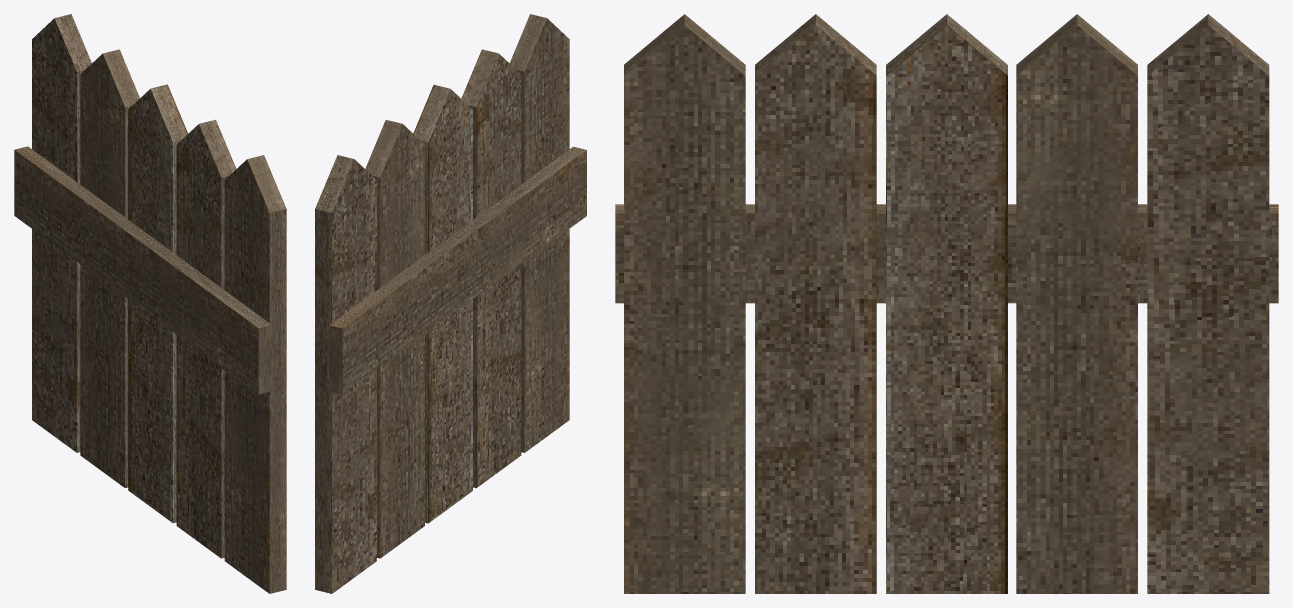
The model's file is picket_fence_short.gltf.
3 views of the same model, side by side, from view 1: azimuth 30°, elevation 25°; view 2: azimuth 150°, elevation 25°; view 3: azimuth 270°, elevation 25° (orthographic). The views are drawn at different scales.
Parts seen in each view (by area): view 1: Plank4, CrossBoard-col, Plank1, Plank5, Plank2, Plank3; view 2: Plank5, CrossBoard-col, Plank3, Plank4, Plank2, Plank1; view 3: Plank5, Plank1, Plank2, Plank3, Plank4, CrossBoard-col.
Boxes of the visible parts, x1=… form: Plank4: x1=224, y1=155, x2=286, y2=593; CrossBoard-col: x1=14, y1=146, x2=271, y2=394; Plank1: x1=128, y1=84, x2=187, y2=523; Plank5: x1=32, y1=14, x2=91, y2=452; Plank2: x1=80, y1=49, x2=139, y2=488; Plank3: x1=176, y1=119, x2=236, y2=558; Plank5: x1=315, y1=155, x2=376, y2=593; CrossBoard-col: x1=329, y1=146, x2=586, y2=394; Plank3: x1=461, y1=49, x2=521, y2=488; Plank4: x1=509, y1=14, x2=569, y2=452; Plank2: x1=365, y1=120, x2=424, y2=558; Plank1: x1=413, y1=84, x2=472, y2=523; Plank5: x1=1147, y1=14, x2=1269, y2=593; Plank1: x1=886, y1=14, x2=1007, y2=593; Plank2: x1=1016, y1=14, x2=1137, y2=593; Plank3: x1=755, y1=14, x2=876, y2=593; Plank4: x1=624, y1=14, x2=745, y2=593; CrossBoard-col: x1=615, y1=204, x2=1278, y2=303.
Bounding box in the file's own units: 0.1709 × 2.2 × 2.32.
Materials: 1 (1 with a texture image).
